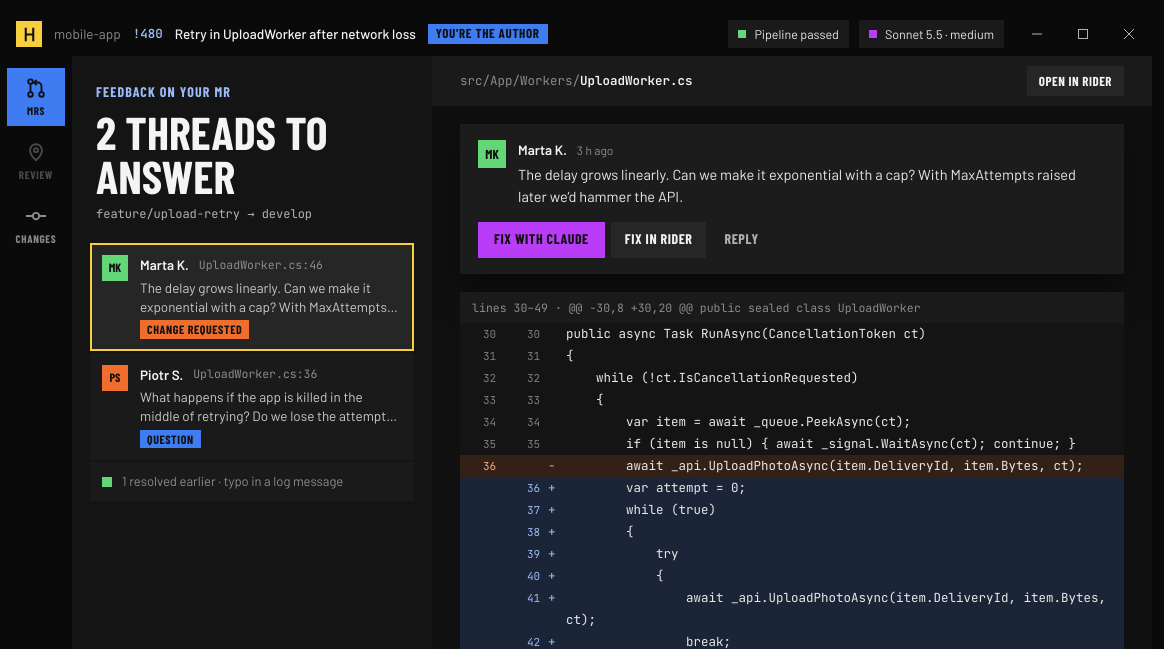
Scenario: S-10 Fix in Rider (F-26.3) › F-26.3 a thread without a line is opened and named at line 1, as Rider opens it
Click the button "Fix in Rider" at (659,240), box [611, 222, 706, 258]
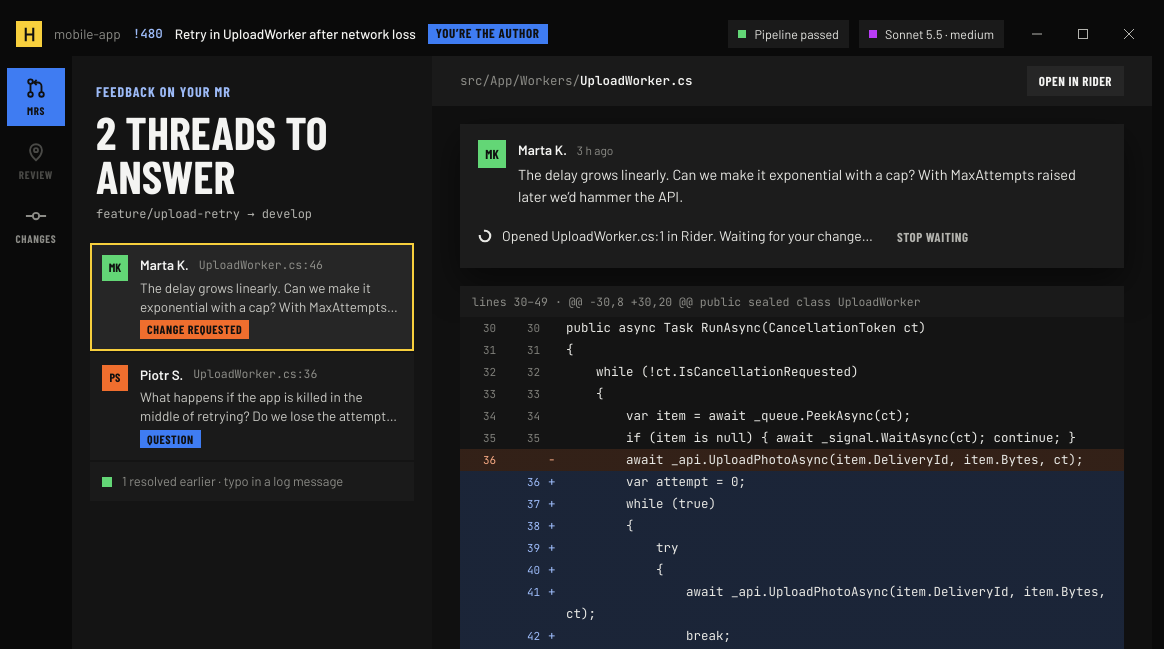
Expected: the element showing "src/App/Workers/UploadWorker.cs" is shown, [460, 72, 693, 90]
Expected: the text "Opened UploadWorker.cs:1 in Rider. Waiting for your change…" is shown, [478, 226, 873, 247]
